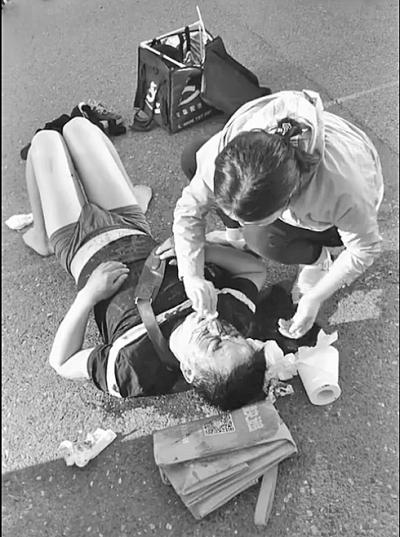bending: (179, 73, 385, 316)
down: (17, 111, 281, 413)
